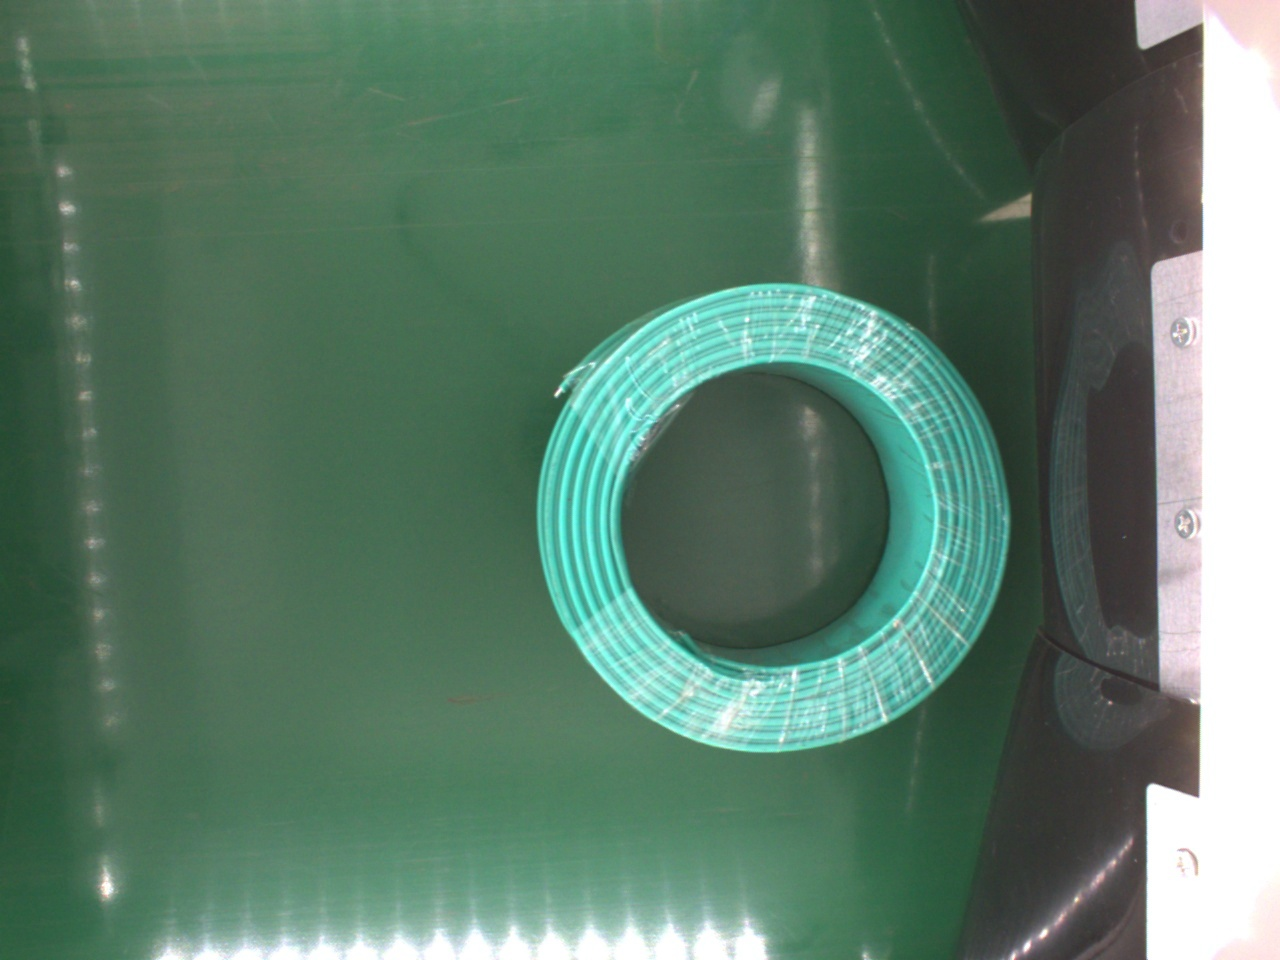green: (535, 280, 1012, 754)
